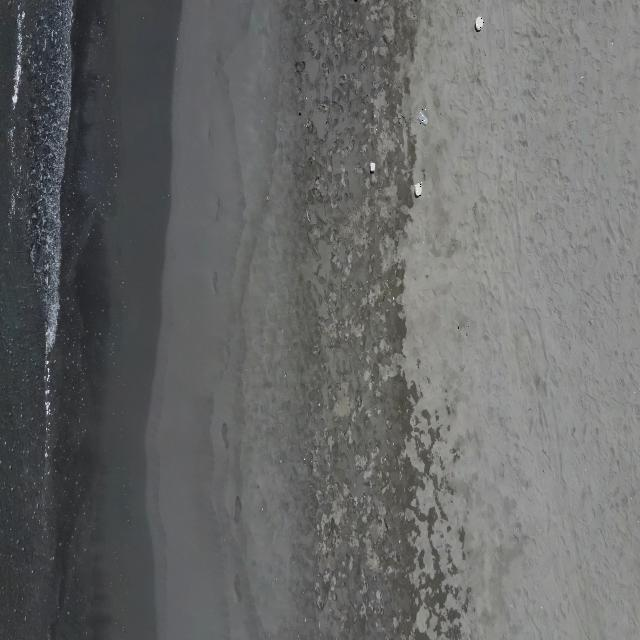take-away-containers: (475, 17, 484, 29), (415, 182, 422, 196), (369, 162, 376, 172)
takeaway-cup: (418, 109, 428, 126)
